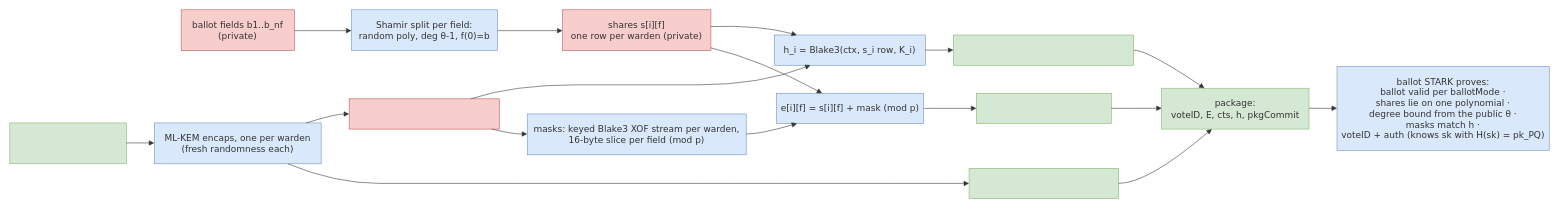
Image size: 1559x208. Some labels were removed from this diagram. The shapes that lost their labels are listed below. From the top down, each one's box as (x1, y1, x2, y2) in pixels, then its label:
(953, 34, 1134, 65): share commitments h_1..h_v (public)
(349, 98, 499, 129): mask keys K_1..K_v (private)
(976, 93, 1111, 123): masked shares E (public)
(9, 122, 126, 164): warden ML-KEM pks (public, per epoch)
(969, 168, 1119, 199): ciphertexts ct_1..ct_v (public)
